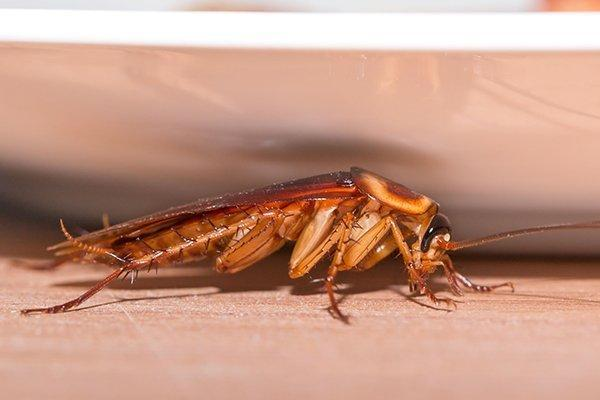cockroach: (40, 164, 462, 292)
